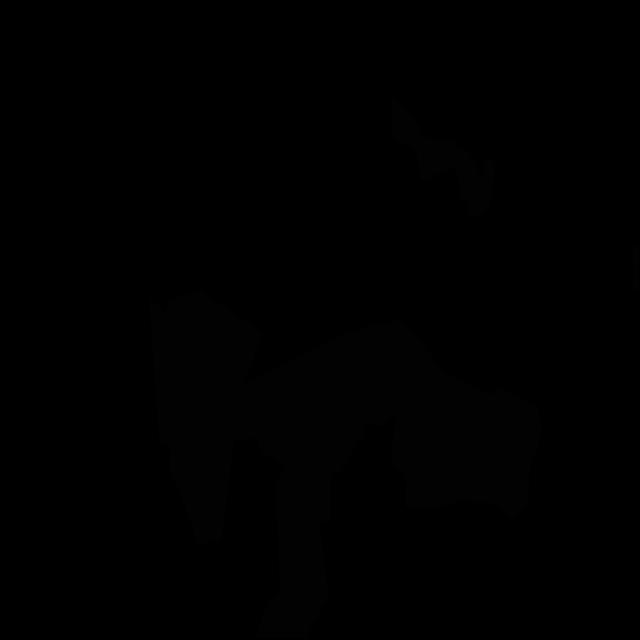cardboard: (149, 291, 445, 639), (390, 372, 542, 521), (391, 124, 471, 218), (458, 150, 496, 220), (392, 93, 422, 137), (630, 245, 639, 291)
